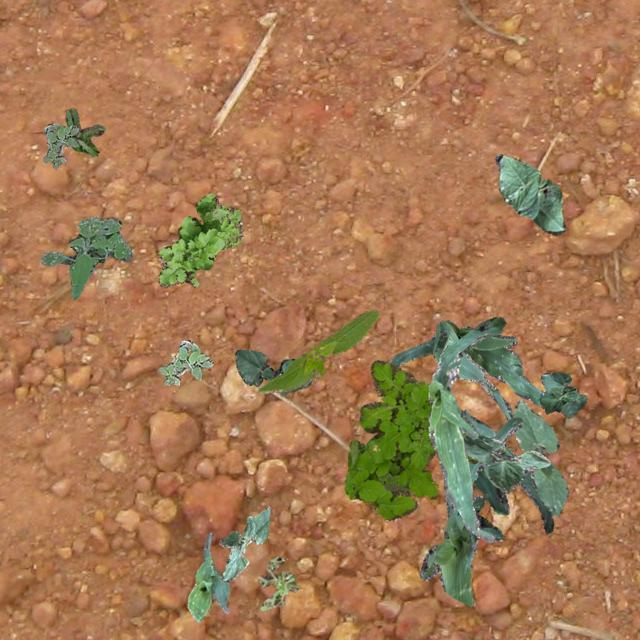crop: (418, 416, 522, 606), (428, 316, 504, 542), (388, 318, 544, 419), (460, 408, 552, 532), (257, 310, 377, 392), (512, 398, 568, 514), (494, 152, 564, 234), (462, 433, 548, 492), (218, 506, 268, 580), (186, 532, 228, 620), (234, 348, 312, 394), (538, 371, 584, 416)
weed: (343, 358, 478, 520), (158, 192, 242, 286), (39, 214, 132, 298), (158, 338, 212, 384), (258, 556, 300, 610), (64, 106, 104, 156), (42, 122, 78, 166)
